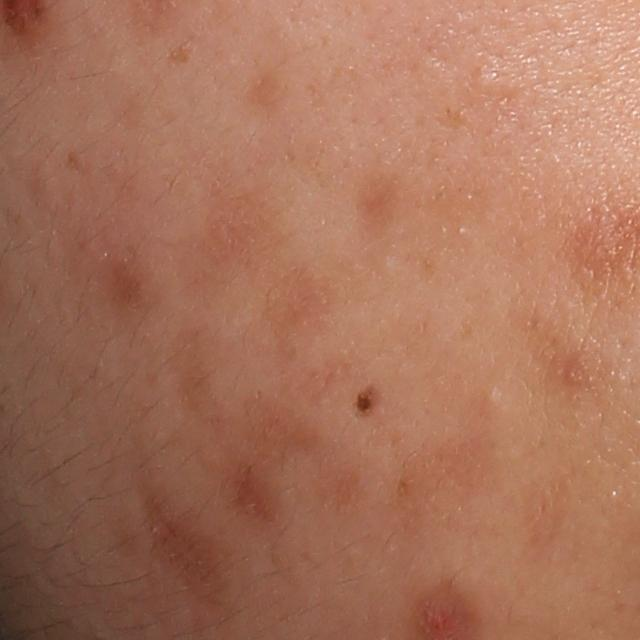comedo: (470, 67, 504, 96), (478, 387, 509, 418)
nevus: (352, 392, 377, 416)
